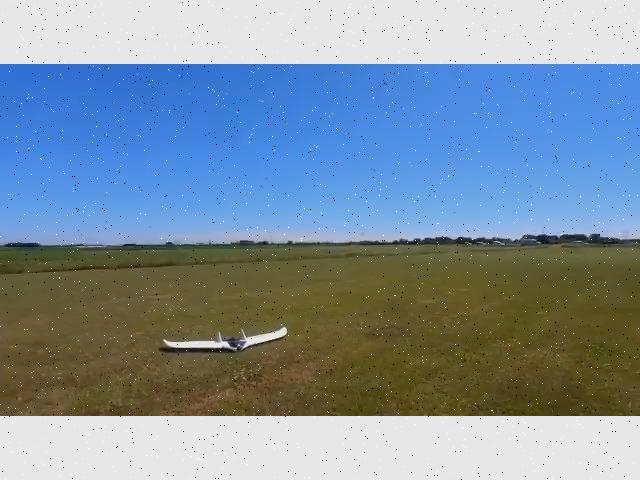Anti-Drone: (150, 319, 310, 357)
